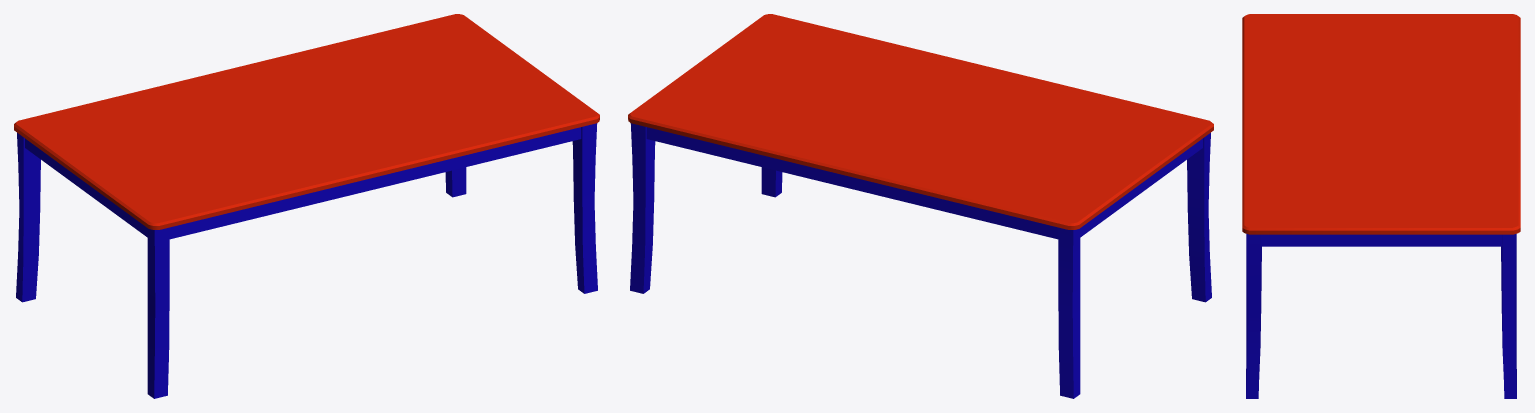
The model's file is Dinner table.fbx.
The picture shows the model from 3 angles, left to right: view 1: azimuth 30°, elevation 25°; view 2: azimuth 150°, elevation 25°; view 3: azimuth 270°, elevation 25°; orthographic projection. The views are drawn at different scales.
Parts seen in each view (by area): view 1: Dinner Table; view 2: Dinner Table; view 3: Dinner Table.
Boxes of the visible parts, left/top/right/bottom form: Dinner Table: left=14, top=14, right=599, bottom=398; Dinner Table: left=628, top=14, right=1213, bottom=398; Dinner Table: left=1242, top=14, right=1520, bottom=398.
Size of the model in its own units: 205 by 76.12 by 112.
